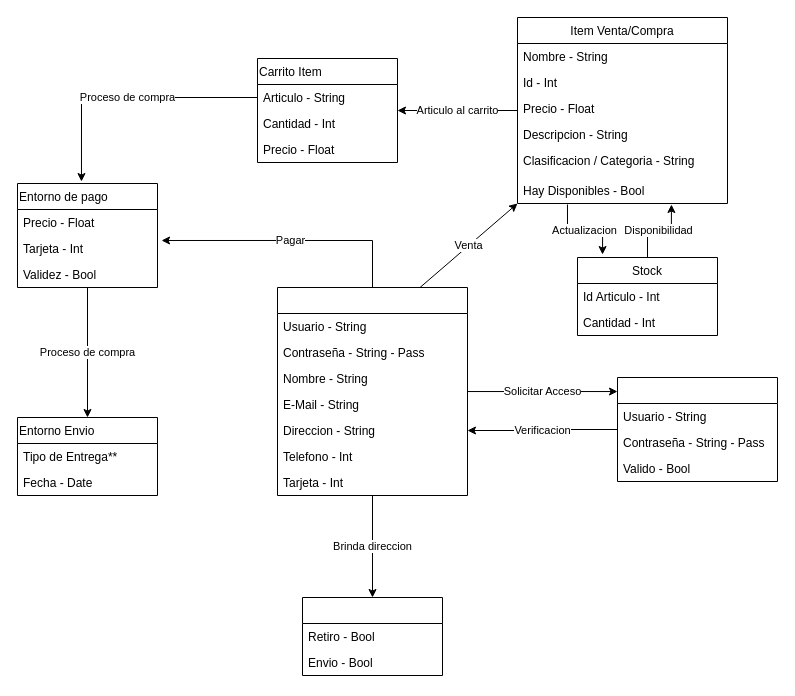
This 795x696 diagram has some shape labels left out. Here are the shapes that lost their labels. From the top down, the box of each, then its label:
(276, 286, 468, 496): Cliente
(616, 376, 778, 482): Base Logins
(302, 596, 442, 676): **Tipos de entrega
